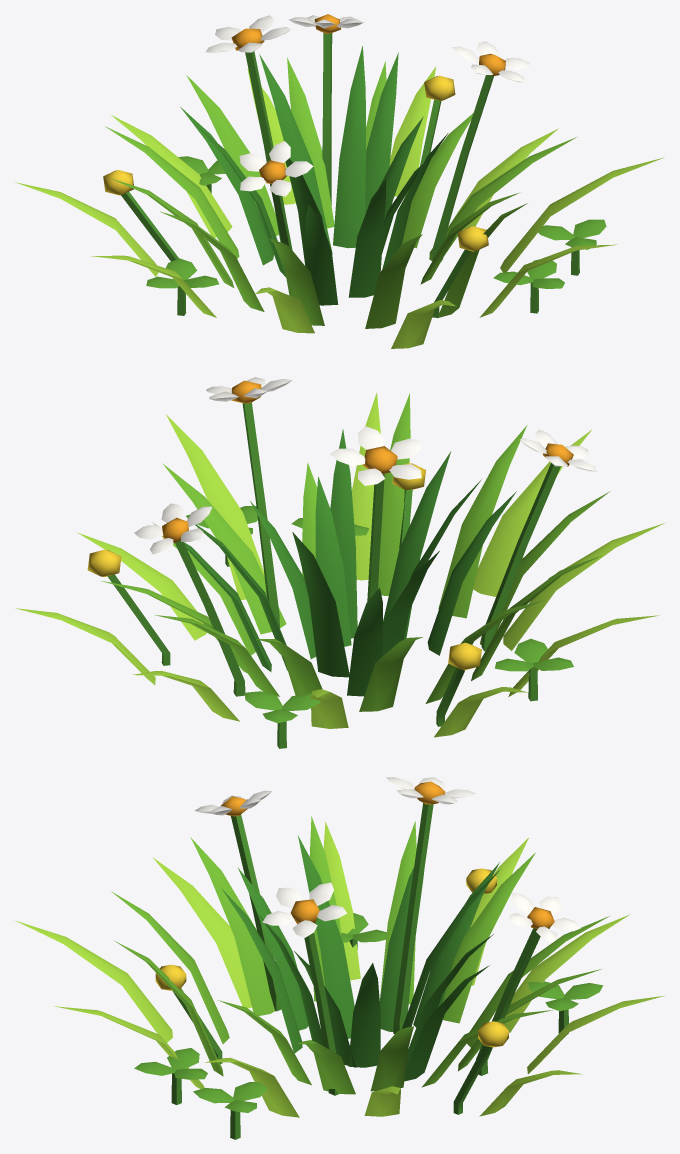
File: prop_grass_daisy_cluster.glb
The picture shows the model from 3 angles, top to bottom: view 1: azimuth 30°, elevation 25°; view 2: azimuth 150°, elevation 25°; view 3: azimuth 270°, elevation 25°; orthographic projection. The views are drawn at different scales.
Parts seen in each view (by area): view 1: prop_grass_daisy_cluster; view 2: prop_grass_daisy_cluster; view 3: prop_grass_daisy_cluster.
Part boxes in pixels (x1,y1,x2,y2): prop_grass_daisy_cluster: (14, 14, 664, 348); prop_grass_daisy_cluster: (16, 377, 664, 748); prop_grass_daisy_cluster: (15, 777, 664, 1139).
Bounding box in the file's own units: 1.04 × 0.4566 × 1.11.
